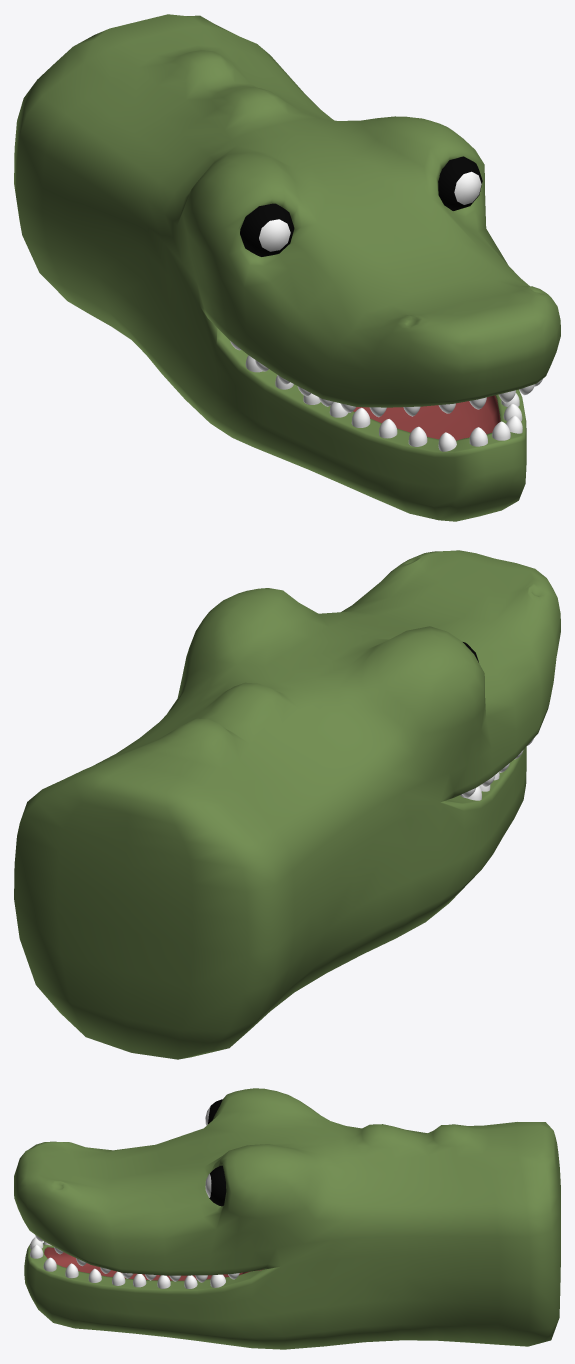
The model's file is Cocodrilo.fbx.
3 views of the same model, one above another, from view 1: azimuth 30°, elevation 25°; view 2: azimuth 150°, elevation 25°; view 3: azimuth 270°, elevation 25° (orthographic). The views are drawn at different scales.
Parts seen in each view (by area): view 1: Cocodrilo; view 2: Cocodrilo; view 3: Cocodrilo.
Part boxes in pixels (x1=…): Cocodrilo: x1=14, y1=14, x2=560, y2=521; Cocodrilo: x1=14, y1=550, x2=560, y2=1059; Cocodrilo: x1=14, y1=1088, x2=560, y2=1349.
Bounding box in the file's own units: 2.43 × 2.49 × 5.79.
